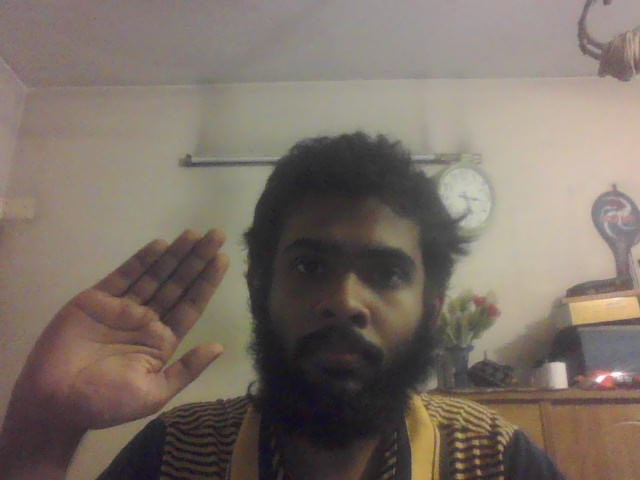Hello: (31, 228, 241, 417)
